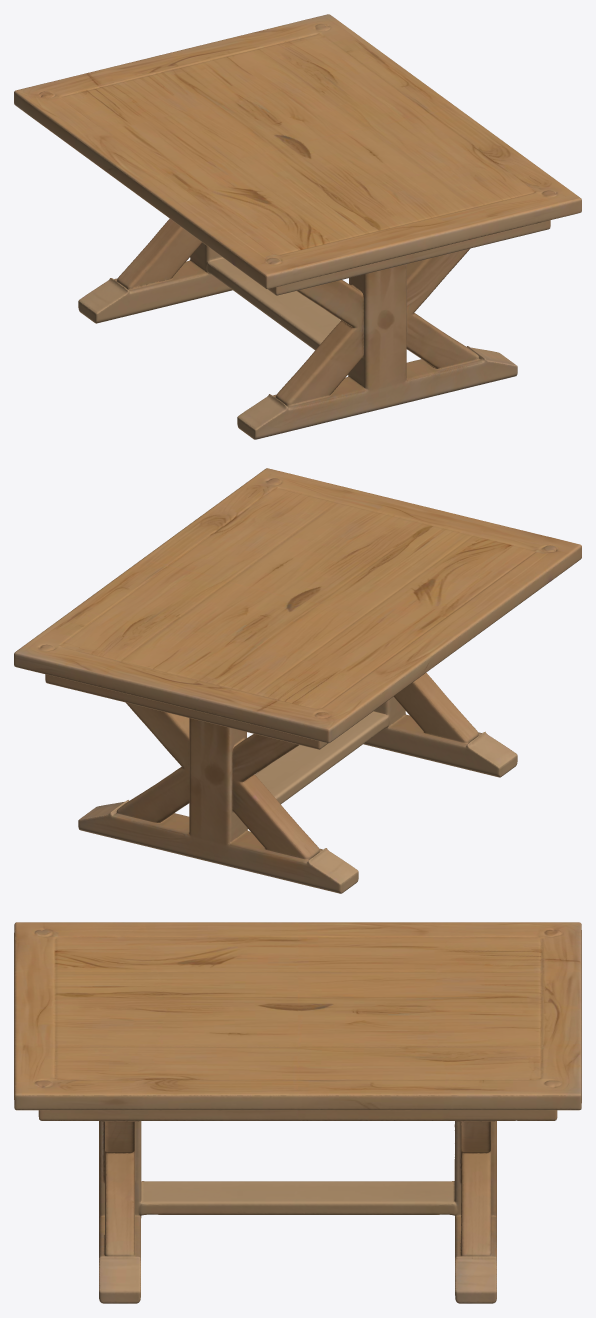
File: detailed_realistic_model_grandoaktable_12.glb
3 views of the same model, one above another, from view 1: azimuth 30°, elevation 25°; view 2: azimuth 150°, elevation 25°; view 3: azimuth 270°, elevation 25° (orthographic). The views are drawn at different scales.
Parts seen in each view (by area): view 1: tripo_node_b94ca929-9cbb-4b41-aa4c-17cd55ebce47; view 2: tripo_node_b94ca929-9cbb-4b41-aa4c-17cd55ebce47; view 3: tripo_node_b94ca929-9cbb-4b41-aa4c-17cd55ebce47.
Boxes of the visible parts, x1,y1,x2,y2 form: tripo_node_b94ca929-9cbb-4b41-aa4c-17cd55ebce47: (14, 14, 581, 439); tripo_node_b94ca929-9cbb-4b41-aa4c-17cd55ebce47: (14, 468, 581, 893); tripo_node_b94ca929-9cbb-4b41-aa4c-17cd55ebce47: (14, 922, 581, 1303).
Bounding box in the file's own units: 0.7218 × 0.4375 × 1.
1 material, 1 textured.
